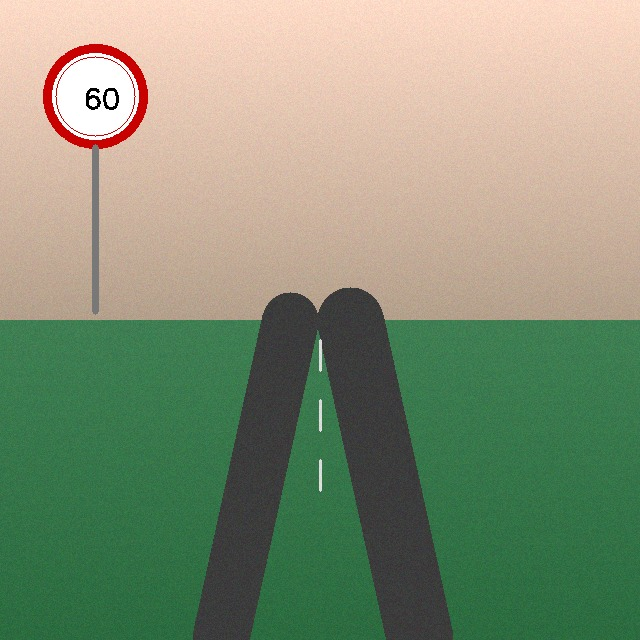velocidad: (45, 46, 146, 147)
